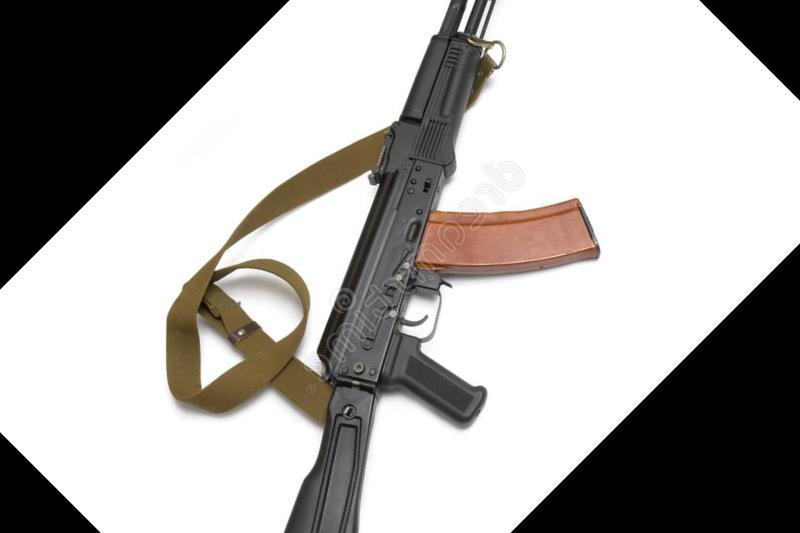larga: (281, 0, 602, 533)
